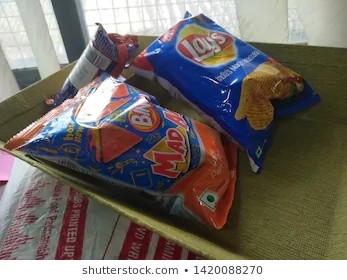lays-small: (119, 7, 325, 168)
